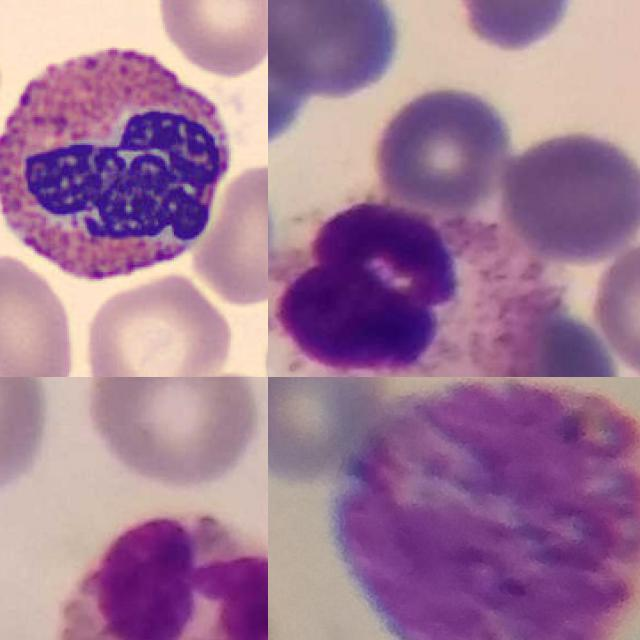Basophil: (334, 379, 640, 640)
Eosinophil: (0, 30, 241, 293), (54, 515, 268, 640)
Neutrophil: (268, 205, 546, 377)
RBC: (80, 270, 238, 377), (190, 161, 268, 309), (0, 251, 80, 377), (152, 0, 268, 78)
